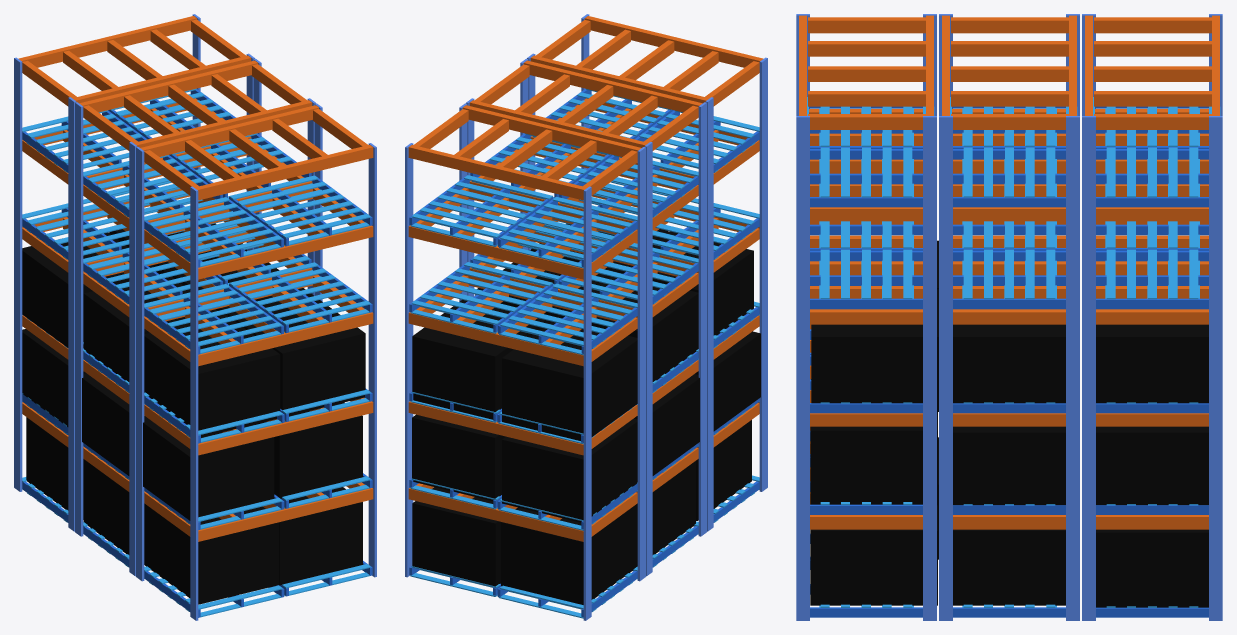
Rendered from bmets4racks.glb.
3 views of the same model, side by side, from view 1: azimuth 30°, elevation 25°; view 2: azimuth 150°, elevation 25°; view 3: azimuth 270°, elevation 25° (orthographic). The views are drawn at different scales.
Visible parts, largest first — view 1: Box5_2, Box4_2, Box2_2, Box6_2, Box3_2, Box1_2, Box5, post_9, post_3, post_1, post_5, Box4_1 (+47 smaller); view 2: Box5, Box4, Box2, Box6, Box1, Box3, post_11, post_9, post_3, post_7, Box4_1, Box4_2 (+48 smaller); view 3: Box6_2, Box6, Box6_1, Box3_1, Box3, Box3_2, Box1, Box1_2, Box1_1, post, post_2, post_4 (+84 smaller).
Boxes of the visible parts, x1=… form: Box5_2: x1=144, y1=314, x2=280, y2=437; Box4_2: x1=143, y1=416, x2=274, y2=520; Box2_2: x1=144, y1=503, x2=278, y2=604; Box6_2: x1=228, y1=293, x2=365, y2=415; Box3_2: x1=256, y1=402, x2=362, y2=498; Box1_2: x1=260, y1=487, x2=362, y2=585; Box5: x1=22, y1=232, x2=157, y2=347; post_9: x1=14, y1=57, x2=22, y2=491; post_3: x1=190, y1=186, x2=198, y2=620; post_1: x1=136, y1=147, x2=144, y2=581; post_5: x1=75, y1=102, x2=83, y2=536; Box4_1: x1=82, y1=373, x2=129, y2=475; Box5: x1=502, y1=321, x2=637, y2=440; Box4: x1=502, y1=418, x2=637, y2=522; Box2: x1=501, y1=503, x2=637, y2=604; Box6: x1=412, y1=299, x2=549, y2=419; Box1: x1=412, y1=487, x2=519, y2=586; Box3: x1=412, y1=414, x2=505, y2=500; post_11: x1=637, y1=147, x2=645, y2=581; post_9: x1=583, y1=186, x2=591, y2=620; post_3: x1=759, y1=57, x2=767, y2=491; post_7: x1=698, y1=102, x2=706, y2=536; Box4_1: x1=634, y1=374, x2=699, y2=475; Box4_2: x1=695, y1=331, x2=760, y2=431; Box6_2: x1=811, y1=289, x2=938, y2=411; Box6: x1=1096, y1=324, x2=1208, y2=403; Box6_1: x1=953, y1=324, x2=1065, y2=403; Box3_1: x1=953, y1=426, x2=1065, y2=505; Box3: x1=1096, y1=426, x2=1208, y2=505; Box3_2: x1=810, y1=412, x2=937, y2=505; Box1: x1=1096, y1=529, x2=1208, y2=607; Box1_2: x1=810, y1=505, x2=937, y2=605; Box1_1: x1=953, y1=529, x2=1065, y2=605; post: x1=923, y1=116, x2=936, y2=620; post_2: x1=796, y1=116, x2=809, y2=620; post_4: x1=1066, y1=116, x2=1079, y2=620.
Size of the model in its own units: 2.96 by 6.73 by 5.17.
